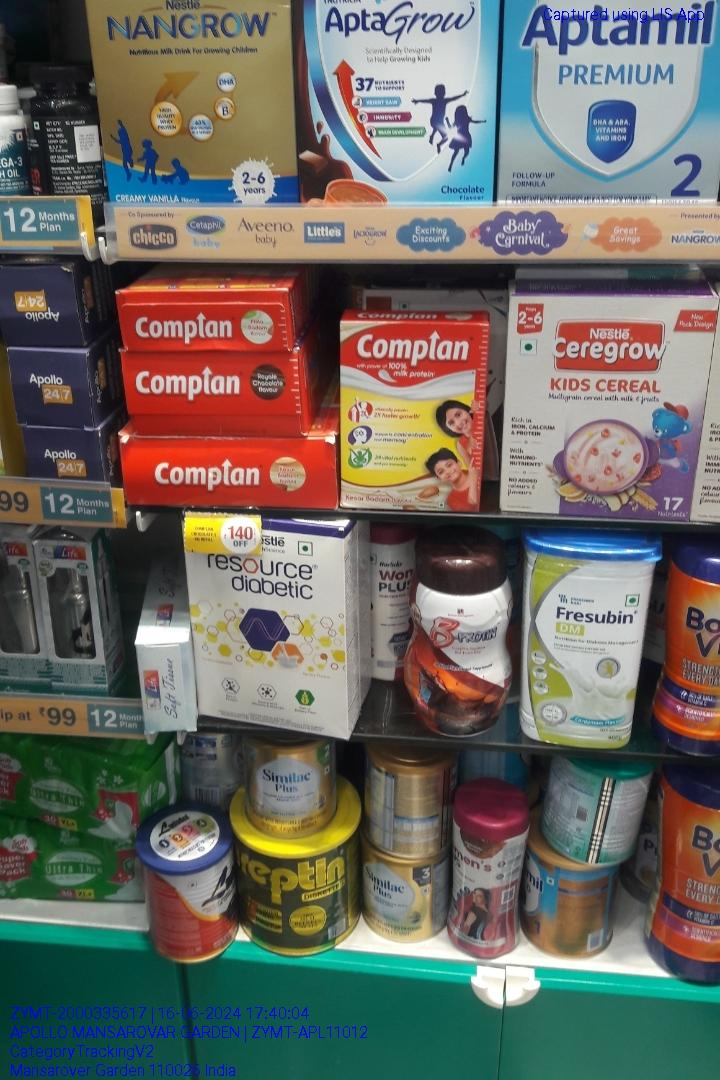COMPLAN_KESAR_BADAM_500_GMS_PACK: (338, 316, 487, 511)
